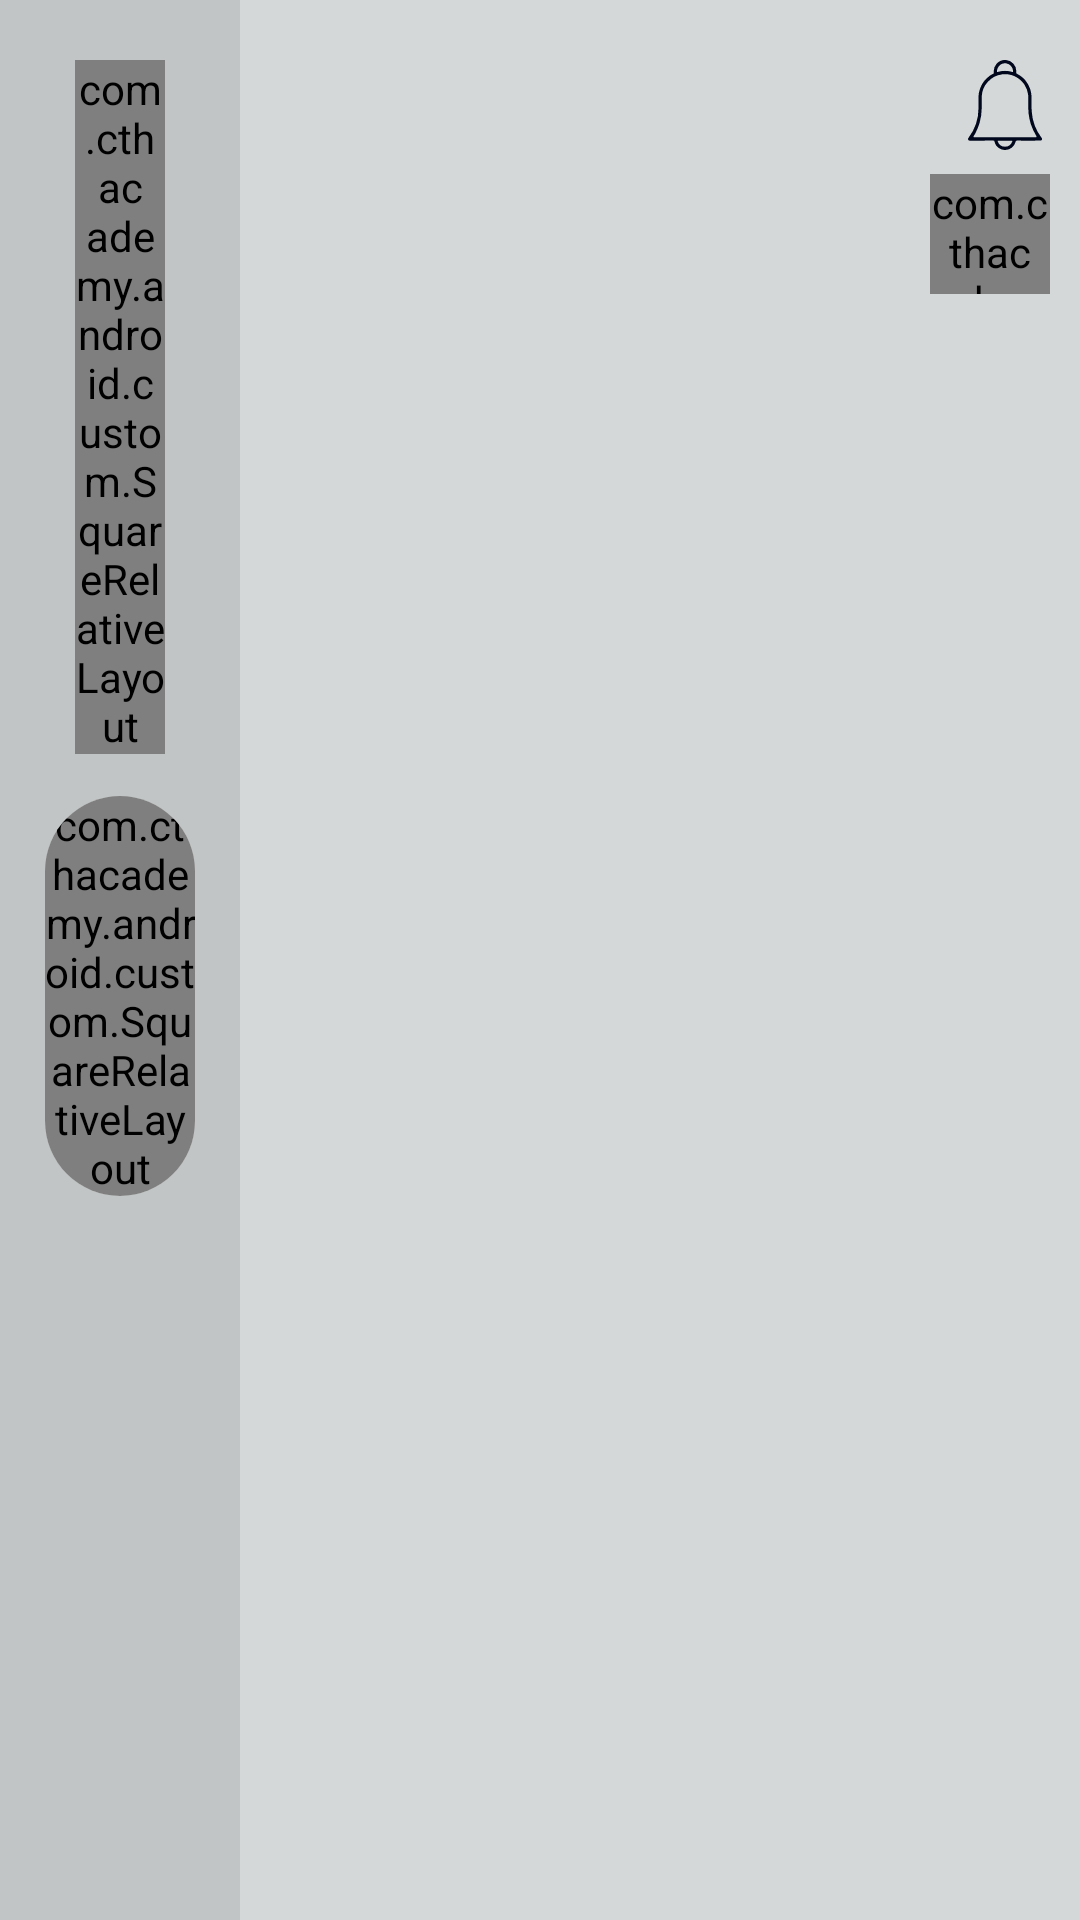

Icons on this 1080 x 1920 Android screen, each with the point to tap as (x=x, y=y):
Notification: (x=1005, y=105)
